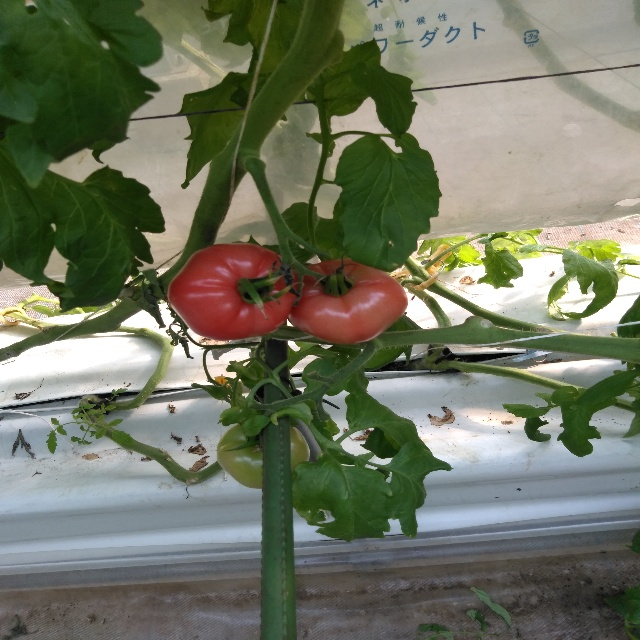b_fully_ripened: (167, 243, 299, 340), (288, 258, 409, 345)
b_green: (216, 418, 310, 488)
